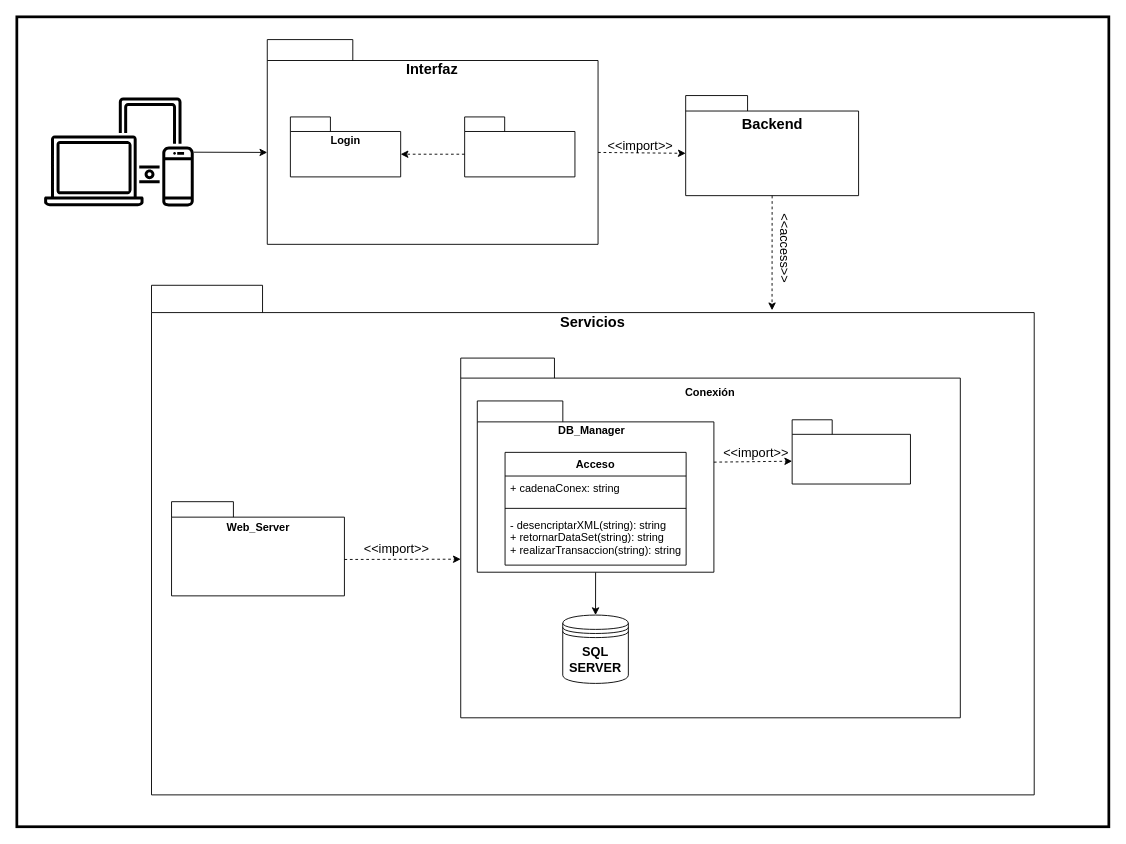
The diagram is 1126 pixels wide and 844 high, and some of its shapes have lost their labels. Here are the shapes that lost their labels. From the top down, the centre of each, then its label:
the point at 519,146: Modulo_Usuario
the point at 850,451: Desencriptar
